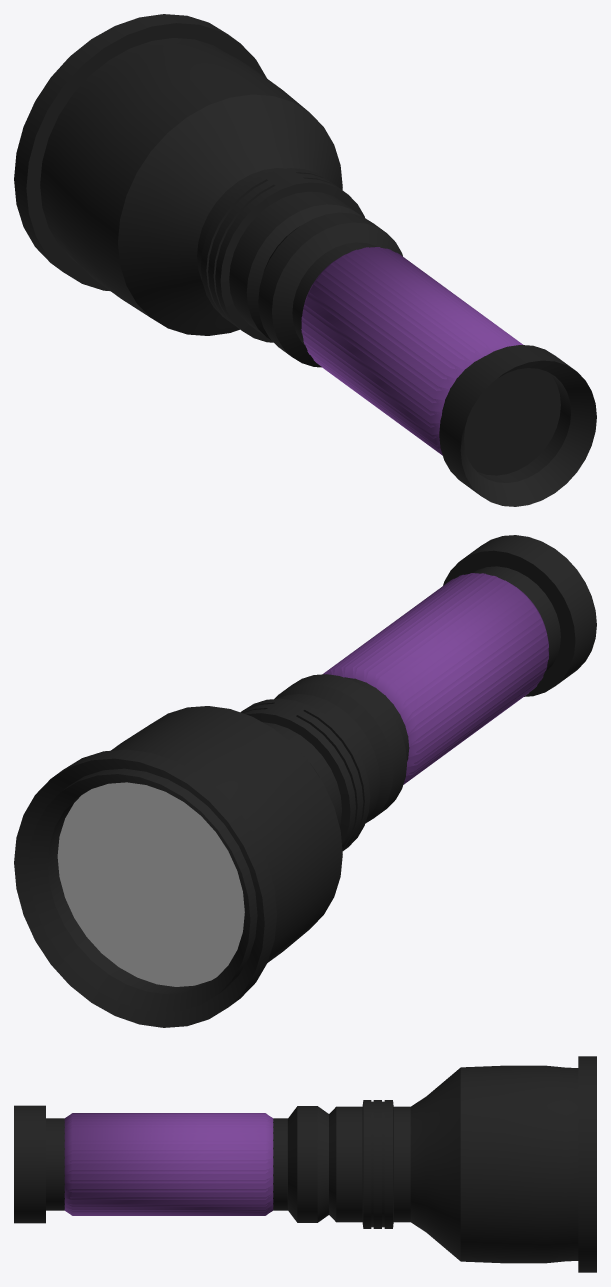
Rendered from flashlight.fbx.
The picture shows the model from 3 angles, top to bottom: view 1: azimuth 30°, elevation 25°; view 2: azimuth 150°, elevation 25°; view 3: azimuth 270°, elevation 25°; orthographic projection. The views are drawn at different scales.
Visible parts, largest first — view 1: flashlight, mango; view 2: flashlight, mango; view 3: flashlight, mango.
Boxes of the visible parts, x1,y1,x2,y2 form: flashlight: (14, 14, 596, 506); mango: (301, 247, 523, 455); flashlight: (14, 535, 596, 1027); mango: (323, 573, 548, 784); flashlight: (14, 1056, 596, 1272); mango: (64, 1113, 273, 1215).
Bounding box in the file's own units: 276 × 276 × 742.
